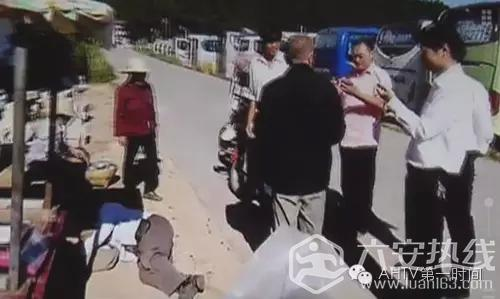fall: (22, 198, 213, 299)
